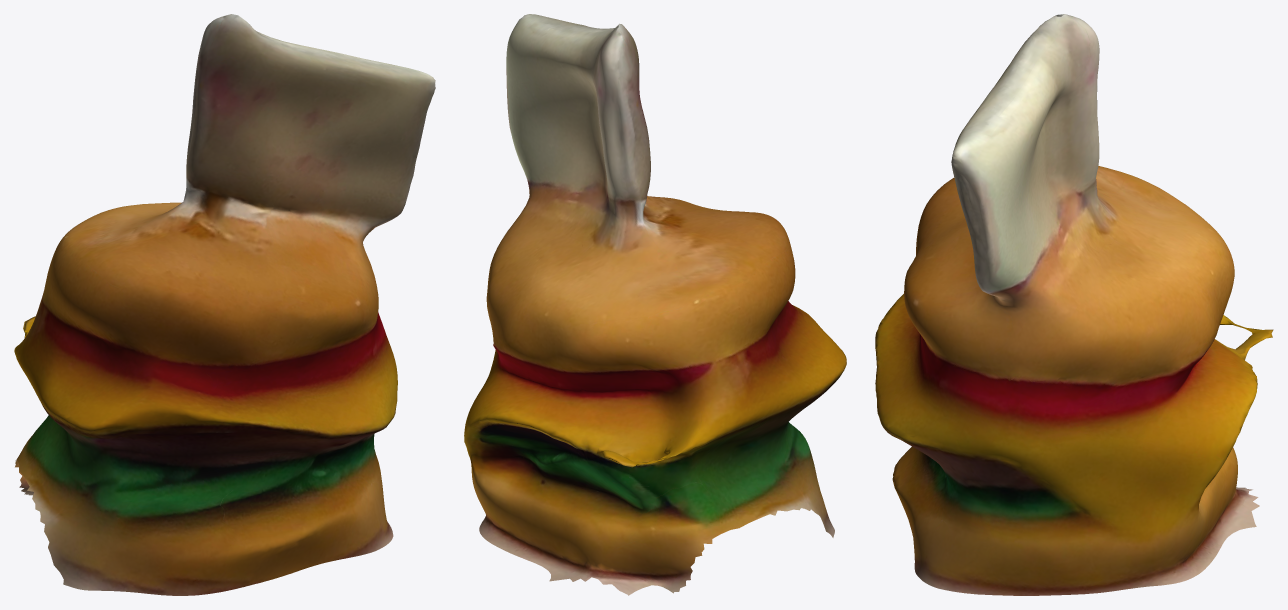
The model's file is ps-berger.glb.
3 views of the same model, side by side, from view 1: azimuth 30°, elevation 25°; view 2: azimuth 150°, elevation 25°; view 3: azimuth 270°, elevation 25° (orthographic). The views are drawn at different scales.
Visible parts, largest first — view 1: baked_mesh; view 2: baked_mesh; view 3: baked_mesh.
Part boxes in pixels (left/top/right/bottom): baked_mesh: left=14, top=14, right=435, bottom=595; baked_mesh: left=464, top=14, right=846, bottom=595; baked_mesh: left=875, top=14, right=1273, bottom=595.
Bounding box in the file's own units: 0.1094 × 0.1483 × 0.1022.
1 material, 1 textured.
